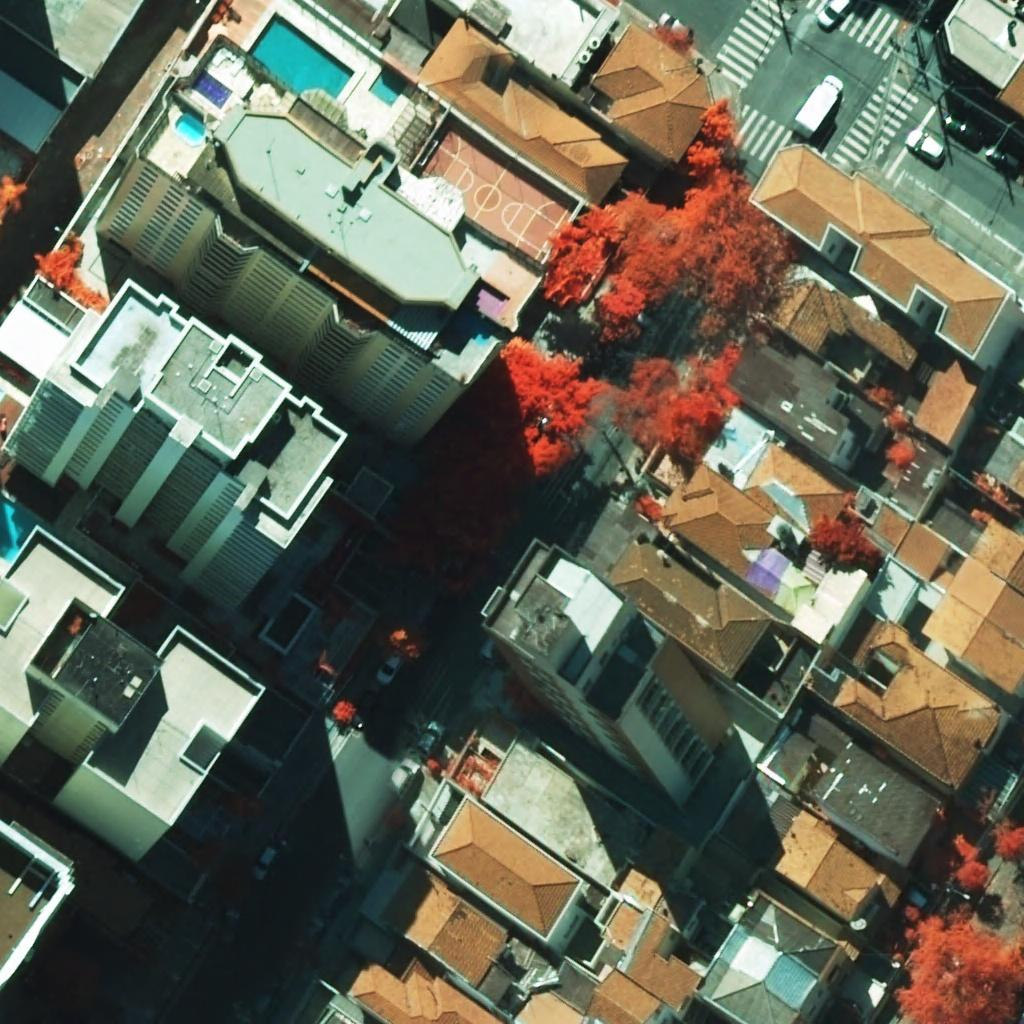pool: (247, 12, 354, 100), (192, 70, 233, 109), (369, 68, 408, 107), (176, 114, 205, 142)
